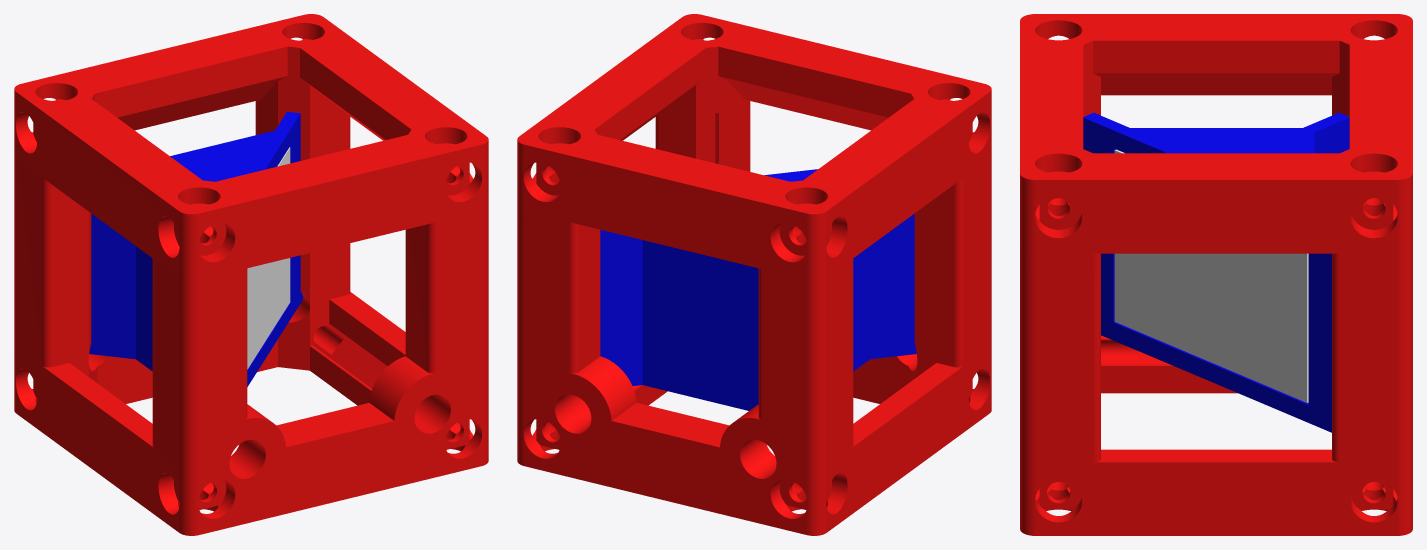
File: Base Cube 1x1 (Mirror).fbx
3 views of the same model, side by side, from view 1: azimuth 30°, elevation 25°; view 2: azimuth 150°, elevation 25°; view 3: azimuth 270°, elevation 25° (orthographic). The views are drawn at different scales.
Visible parts, largest first — view 1: Base Cube 1x1 (Mirror); view 2: Base Cube 1x1 (Mirror); view 3: Base Cube 1x1 (Mirror).
Boxes of the visible parts, x1,y1,x2,y2 form: Base Cube 1x1 (Mirror): (14, 14, 488, 535); Base Cube 1x1 (Mirror): (517, 14, 991, 535); Base Cube 1x1 (Mirror): (1020, 14, 1412, 535).
Bounding box in the file's own units: 4.98 × 4.98 × 4.98.
